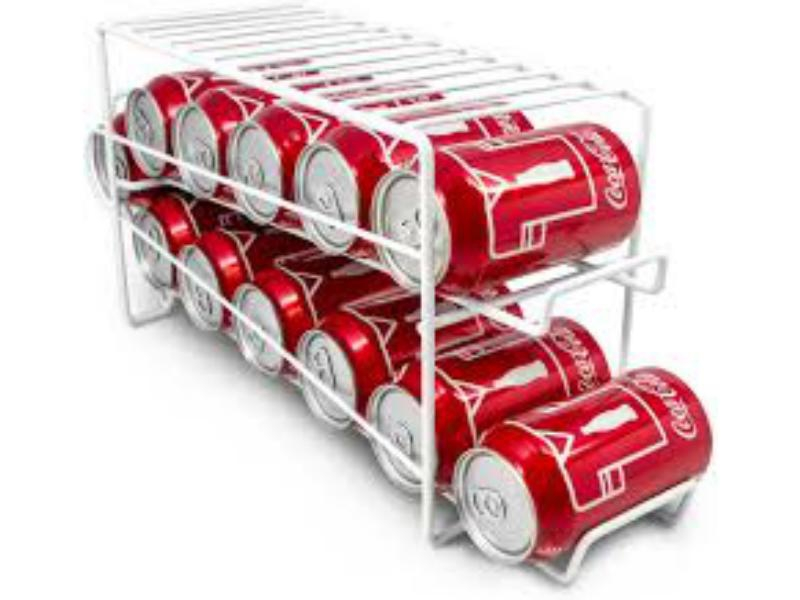can: (446, 356, 721, 570), (357, 307, 617, 510), (363, 117, 644, 302), (288, 91, 538, 261), (217, 76, 450, 235), (168, 66, 386, 205), (117, 42, 320, 184), (293, 312, 359, 437), (229, 269, 290, 386), (178, 220, 226, 346), (123, 197, 173, 301)
